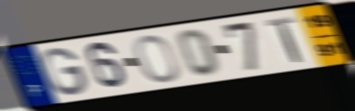0: (176, 28, 224, 78)
6: (85, 40, 128, 91)
7: (220, 21, 262, 73)
G: (39, 46, 89, 97)
O: (132, 34, 181, 85)
T: (264, 15, 304, 64)
